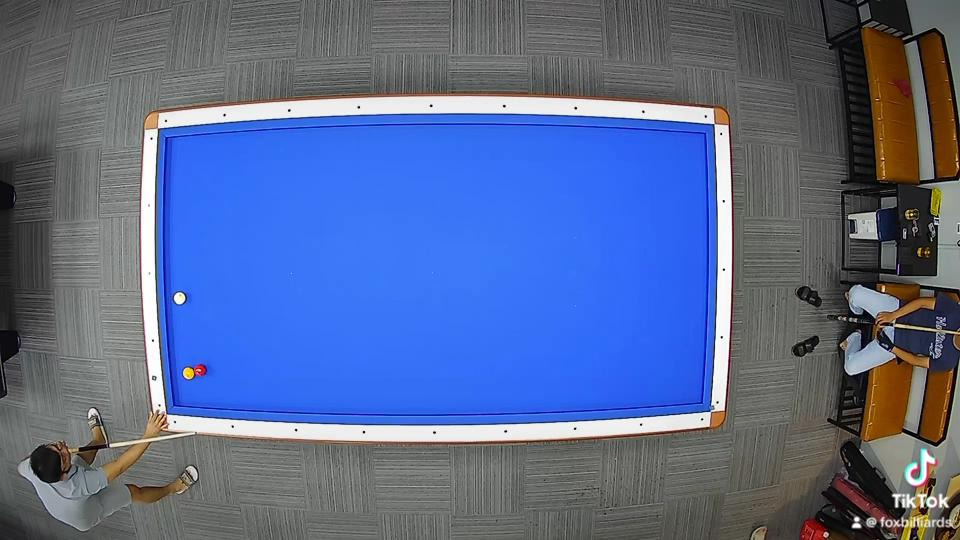Red: (194, 364, 208, 378)
White: (172, 290, 187, 307)
Yellow: (182, 366, 194, 381)
